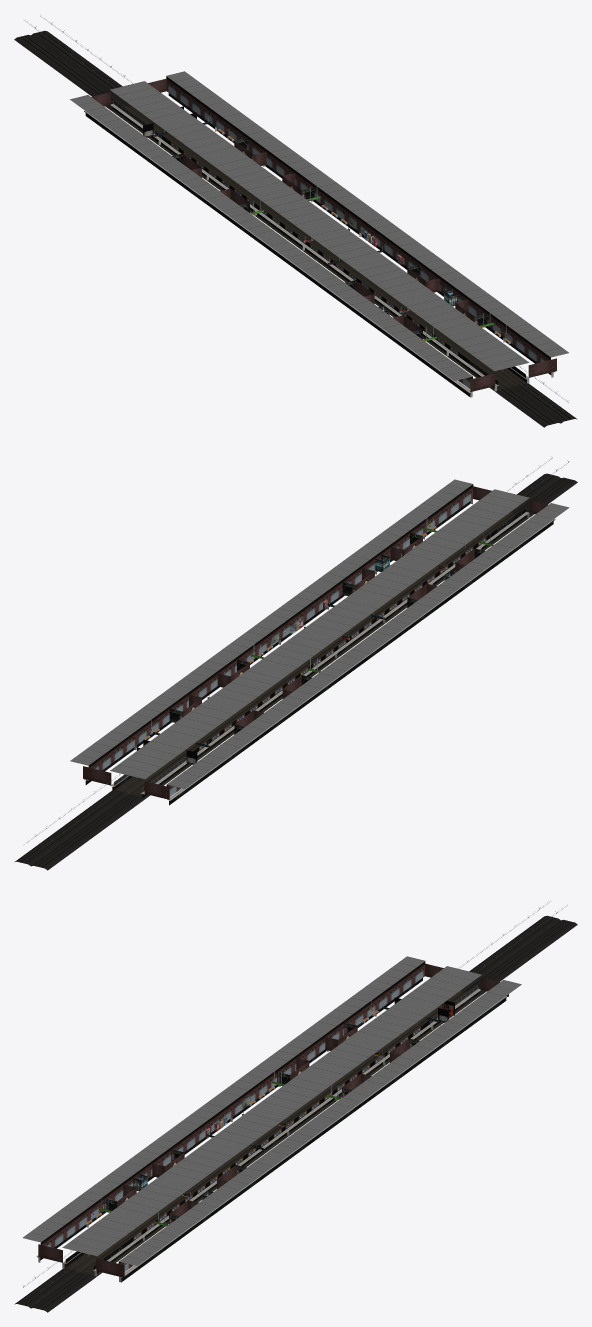
The model's file is Busan113FPSSection.fbx.
The picture shows the model from 3 angles, top to bottom: view 1: azimuth 30°, elevation 25°; view 2: azimuth 150°, elevation 25°; view 3: azimuth 330°, elevation 25°; orthographic projection.
Visible parts, largest first — view 1: Metro113_182_roofr_6_000, Metro113_188_roofl_6_000, Metro113_186_roofl_6_000, Metro113_25_roofr_6_000, Metro113_77_roofr_6_000, Metro113_101_roofl_6_000, Metro113_151_roofr_6_000, Metro113_157_roofl_6_000, Metro113_4_roofr_6_000, Metro113_8_roofl_6_000, Metro113_137_roofl_6_000, Metro113_2_roofr_6_000 (+34 smaller); view 2: Metro113_188_roofl_6_000, Metro113_180_roofr_6_000, Metro113_182_roofr_6_000, Metro113_151_roofr_6_000, Metro113_4_roofr_6_000, Metro113_31_roofl_6_000, Metro113_55_roofr_6_000, Metro113_77_roofr_6_000, Metro113_103_roofl_6_000, Metro113_23_roofr_6_000, Metro113_81_roofl_6_000, Metro113_8_roofl_6_000 (+33 smaller); view 3: Metro113_180_roofr_6_000, Metro113_182_roofr_6_000, Metro113_188_roofl_6_000, Metro113_129_roofr_6_000, Metro113_157_roofl_6_000, Metro113_25_roofr_6_000, Metro113_4_roofr_6_000, Metro113_77_roofr_6_000, Metro113_81_roofl_6_000, Metro113_8_roofl_6_000, Metro113_149_roofr_6_000, Metro113_97_roofr_6_000 (+34 smaller).
Boxes of the visible parts, left/top/right/bottom form: Metro113_182_roofr_6_000: left=70, top=95, right=136, bottom=134; Metro113_188_roofl_6_000: left=166, top=71, right=232, bottom=111; Metro113_186_roofl_6_000: left=110, top=85, right=176, bottom=125; Metro113_25_roofr_6_000: left=358, top=306, right=424, bottom=345; Metro113_77_roofr_6_000: left=262, top=236, right=328, bottom=275; Metro113_101_roofl_6_000: left=254, top=191, right=320, bottom=230; Metro113_151_roofr_6_000: left=118, top=130, right=184, bottom=169; Metro113_157_roofl_6_000: left=215, top=107, right=280, bottom=146; Metro113_4_roofr_6_000: left=407, top=341, right=472, bottom=380; Metro113_8_roofl_6_000: left=503, top=318, right=568, bottom=357; Metro113_137_roofl_6_000: left=263, top=142, right=328, bottom=181; Metro113_2_roofr_6_000: left=463, top=327, right=529, bottom=366; Metro113_188_roofl_6_000: left=70, top=725, right=136, bottom=765; Metro113_180_roofr_6_000: left=110, top=735, right=176, bottom=775; Metro113_182_roofr_6_000: left=167, top=749, right=232, bottom=788; Metro113_151_roofr_6_000: left=215, top=714, right=281, bottom=753; Metro113_4_roofr_6_000: left=503, top=503, right=569, bottom=542; Metro113_31_roofl_6_000: left=359, top=514, right=424, bottom=553; Metro113_55_roofr_6_000: left=407, top=573, right=473, bottom=612; Metro113_77_roofr_6_000: left=359, top=608, right=425, bottom=647; Metro113_103_roofl_6_000: left=215, top=620, right=280, bottom=659; Metro113_23_roofr_6_000: left=399, top=524, right=464, bottom=563; Metro113_81_roofl_6_000: left=263, top=585, right=328, bottom=624; Metro113_8_roofl_6_000: left=407, top=479, right=472, bottom=518; Metro113_180_roofr_6_000: left=415, top=970, right=481, bottom=1009; Metro113_182_roofr_6_000: left=358, top=956, right=425, bottom=996; Metro113_188_roofl_6_000: left=455, top=980, right=521, bottom=1019; Metro113_129_roofr_6_000: left=262, top=1027, right=328, bottom=1066; Metro113_157_roofl_6_000: left=407, top=1015, right=472, bottom=1054; Metro113_25_roofr_6_000: left=70, top=1167, right=136, bottom=1207; Metro113_4_roofr_6_000: left=22, top=1203, right=88, bottom=1242; Metro113_77_roofr_6_000: left=166, top=1097, right=232, bottom=1136; Metro113_81_roofl_6_000: left=263, top=1121, right=328, bottom=1160; Metro113_8_roofl_6_000: left=119, top=1226, right=184, bottom=1265; Metro113_149_roofr_6_000: left=367, top=1005, right=433, bottom=1045; Metro113_97_roofr_6_000: left=271, top=1076, right=337, bottom=1115.
Bounding box in the file's own units: 3460 × 836 × 27600.
61 materials, 48 textured.
